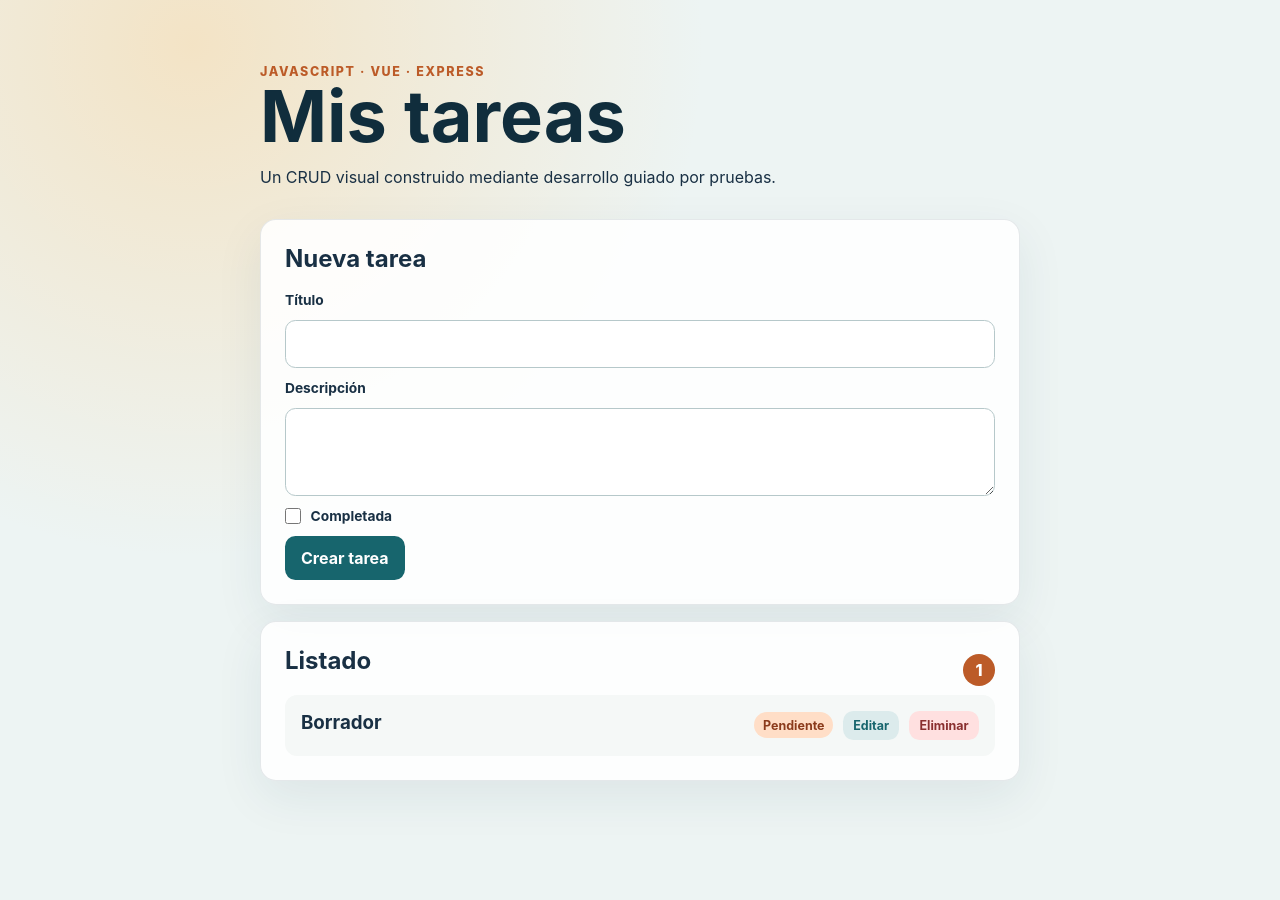
it: Tasks application › edits an existing task from the form
Click the button with test id "edit-1" at (871, 725), box x1=843 y1=711 x2=899 y2=740
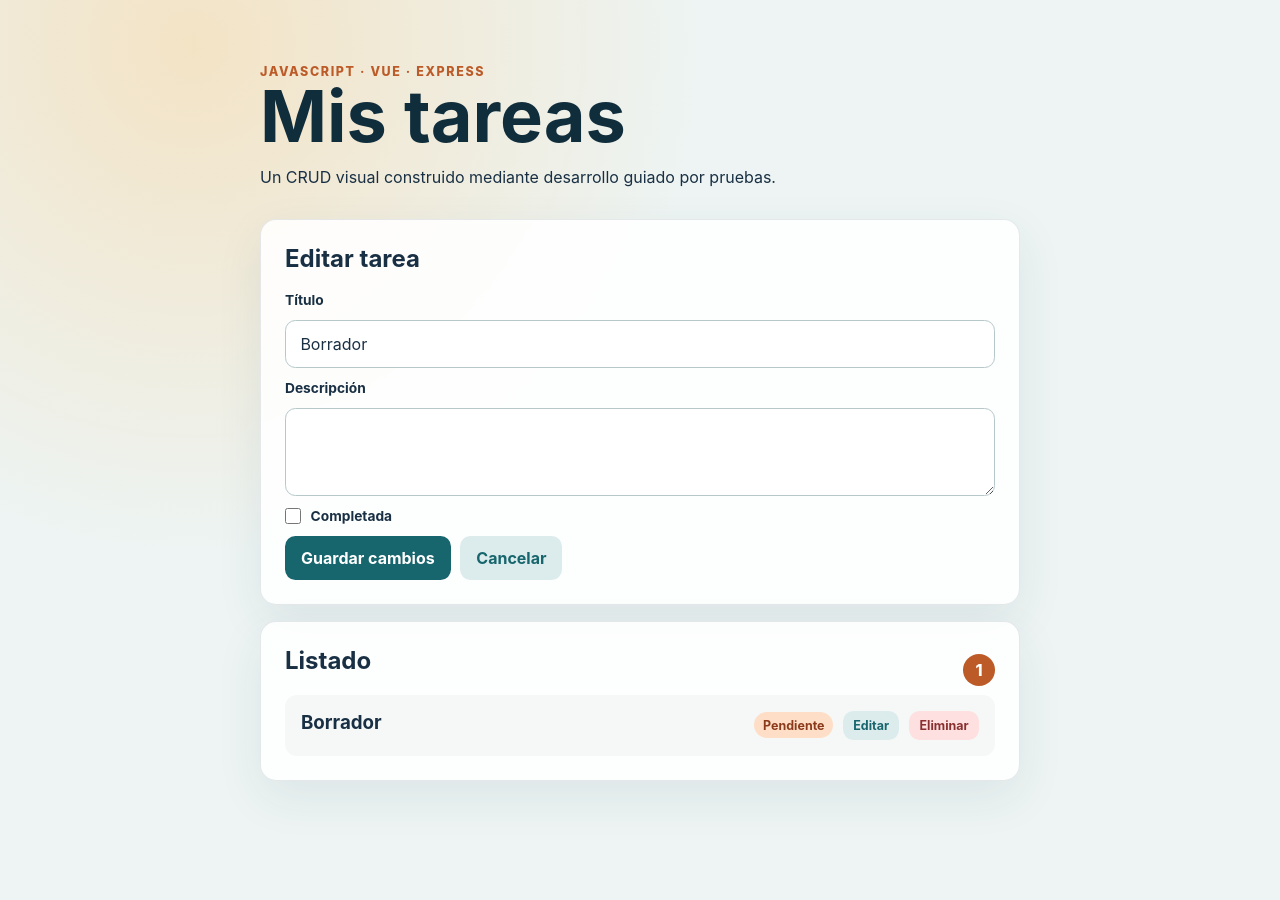
Replace the text in the field named "title" with "Versión final" at (640, 344), box x1=285 y1=320 x2=995 y2=368
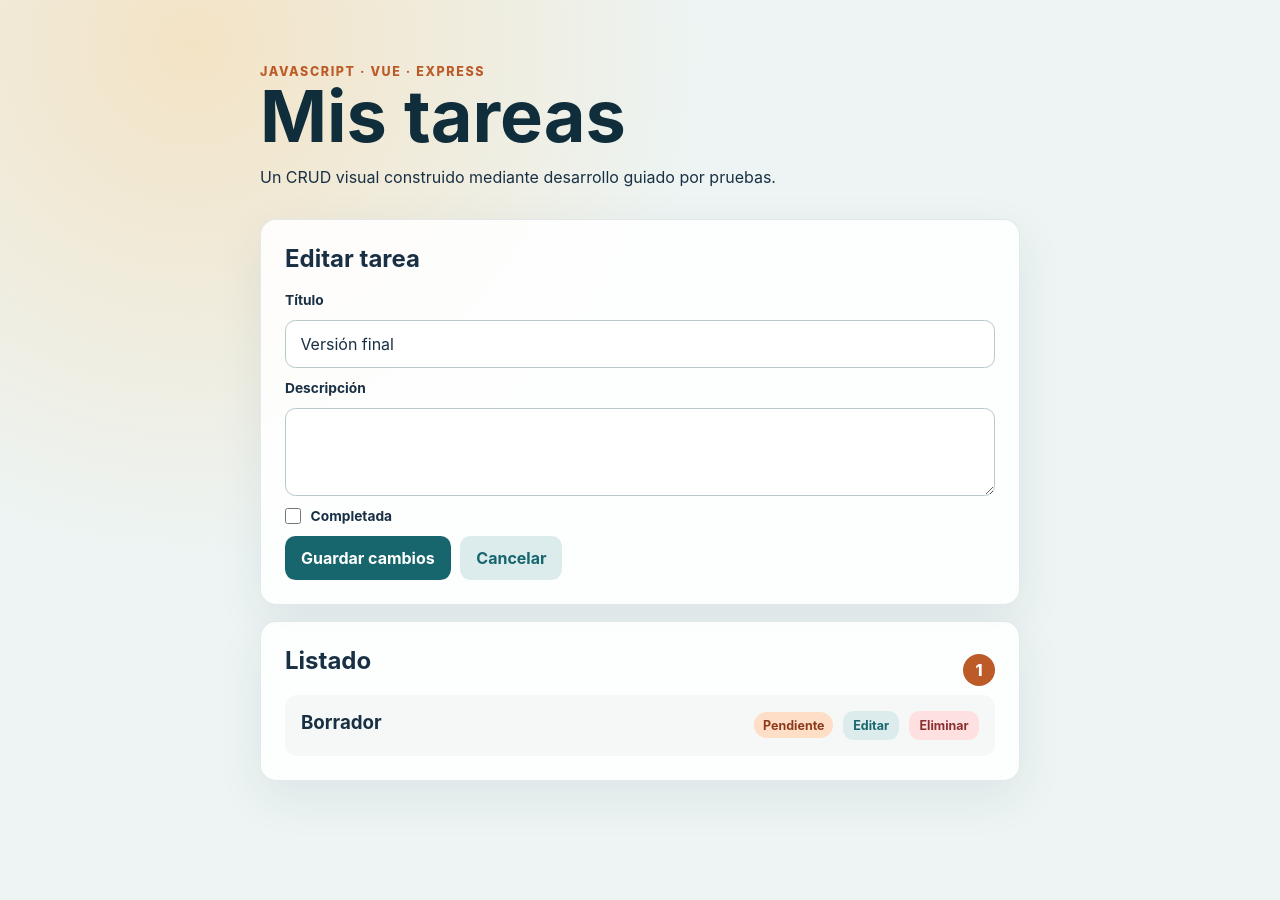
Type "Lista para exponer" into the text box named "description" at (640, 452), box x1=285 y1=408 x2=995 y2=496
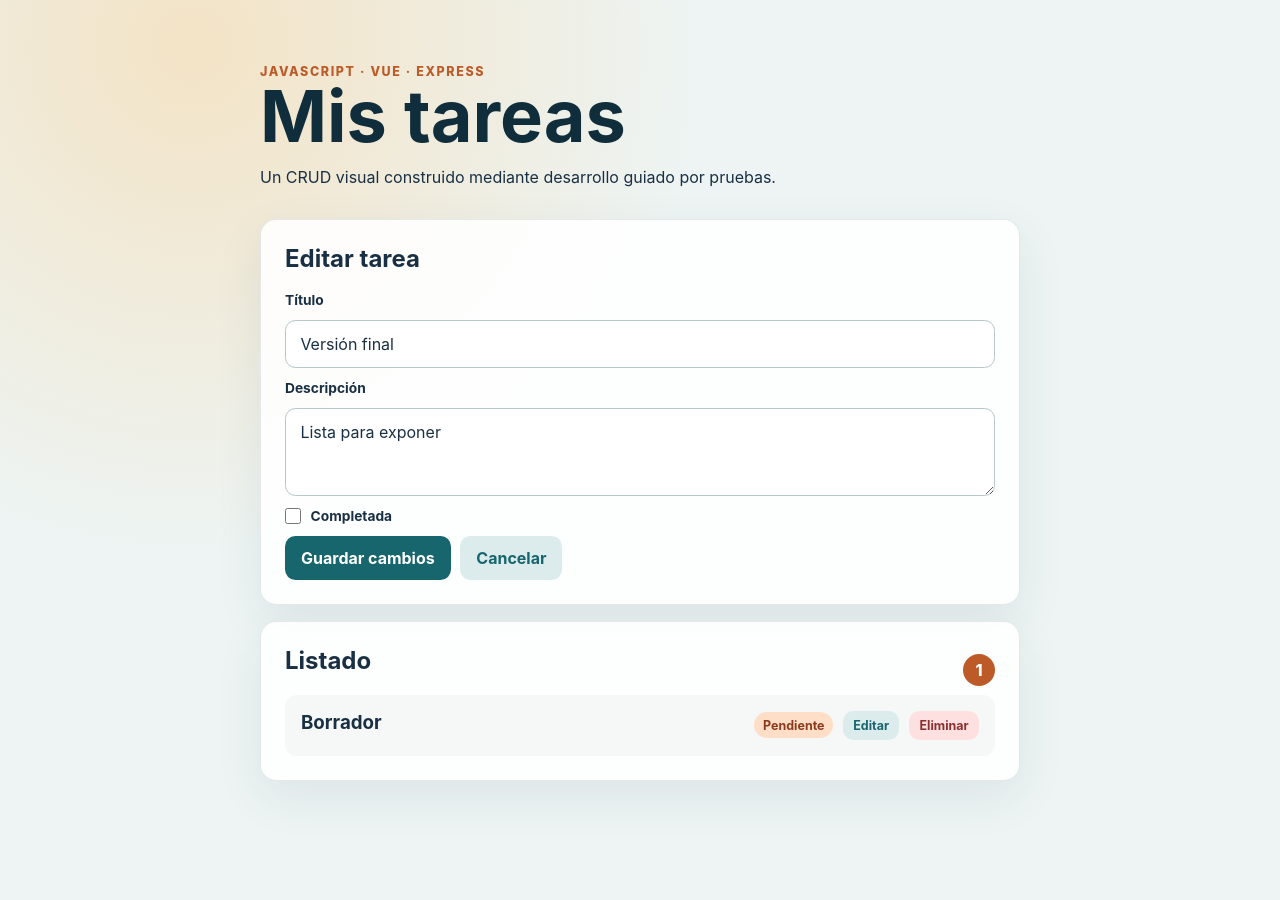
Click the checkbox named "completed" at (293, 516), box x1=285 y1=508 x2=301 y2=524
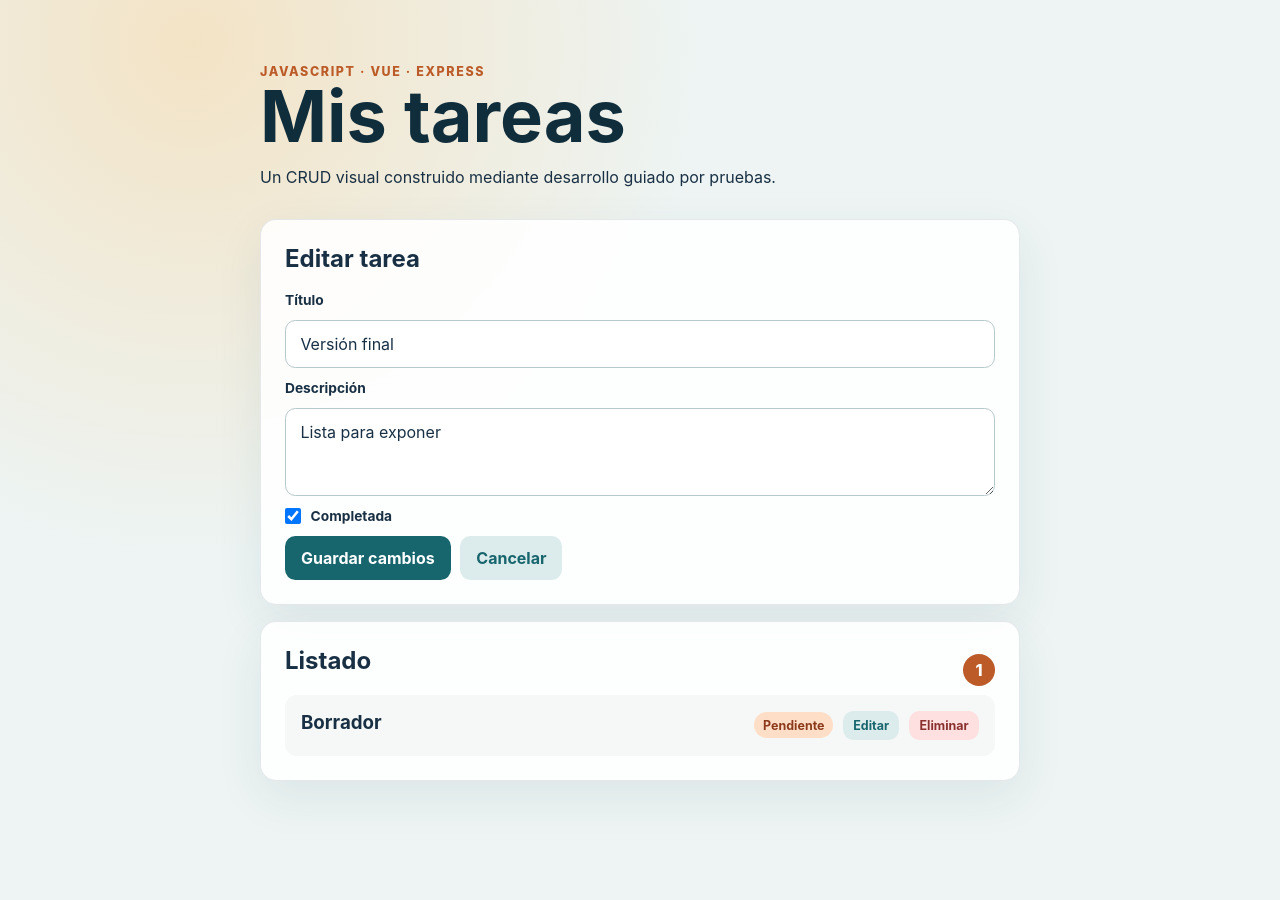
Submit the form, box x1=285 y1=292 x2=995 y2=580
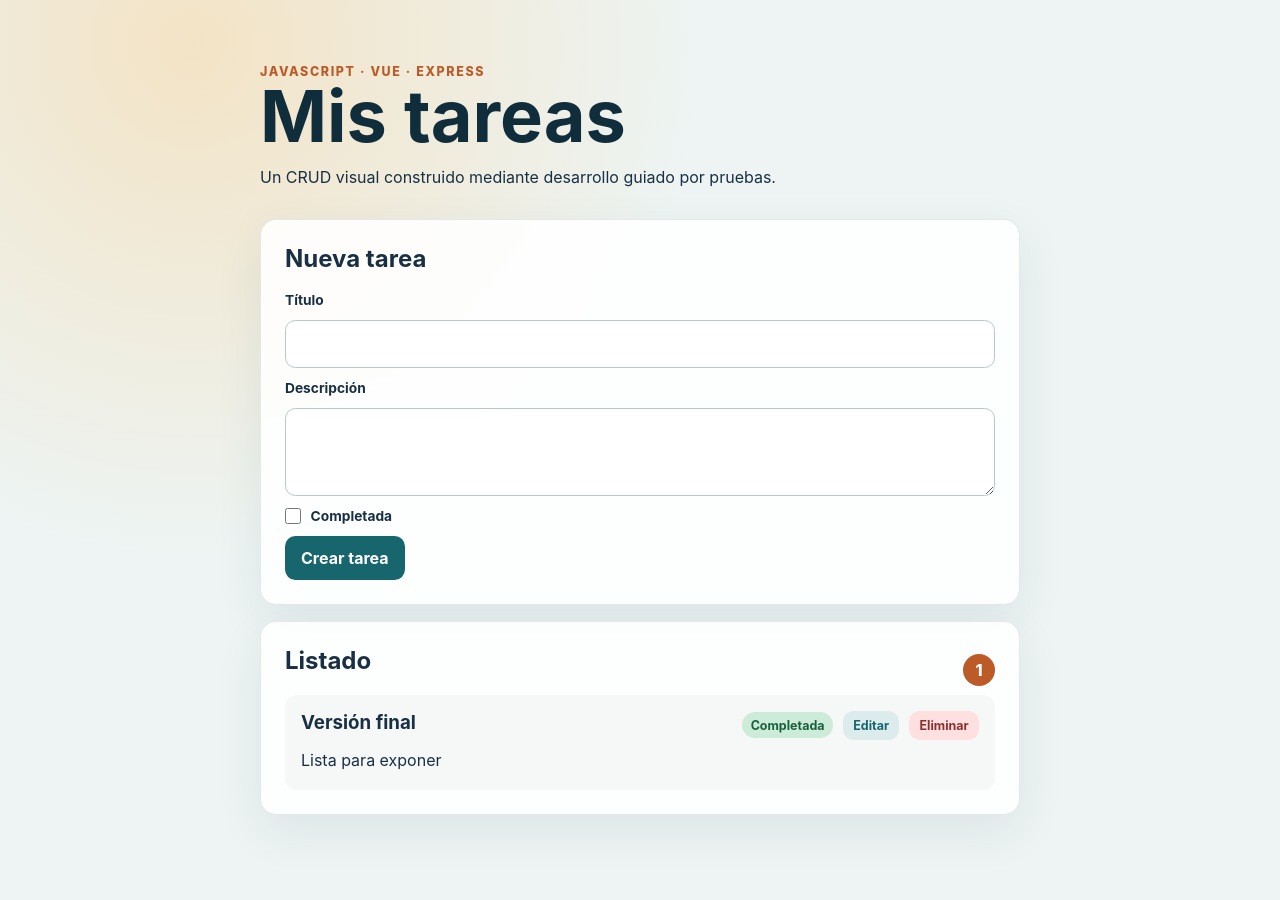
Expected: the text "Completada" is shown, x1=285 y1=508 x2=392 y2=524
Expected: the text "Versión final" is shown, x1=301 y1=711 x2=416 y2=734
